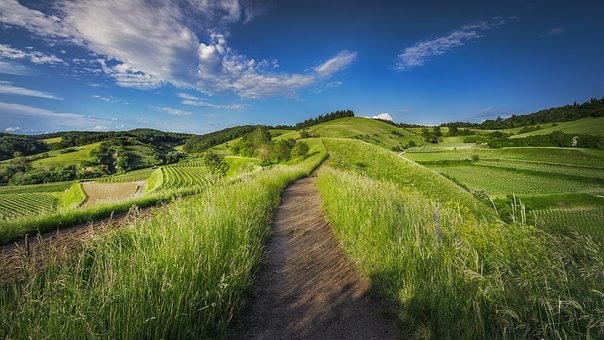field: (15, 133, 590, 340)
sky: (3, 2, 604, 122)
